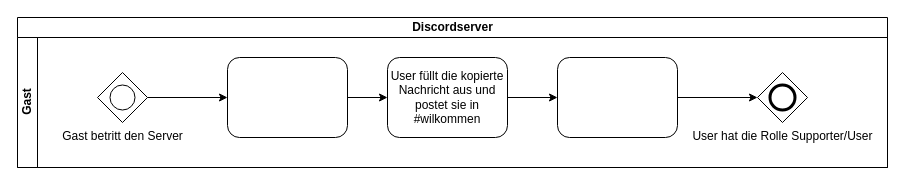
The diagram is 905 pixels wide and 185 high, and some of its shapes have lost their labels. The shapes that lost their labels are listed below. From the top down, each one's centre as x and y in pixels, then its label:
At (287,97): "User erhält private Nachricht".
At (617,97): "User reagiert mit Daumen hoch in #serverbeitritt".
